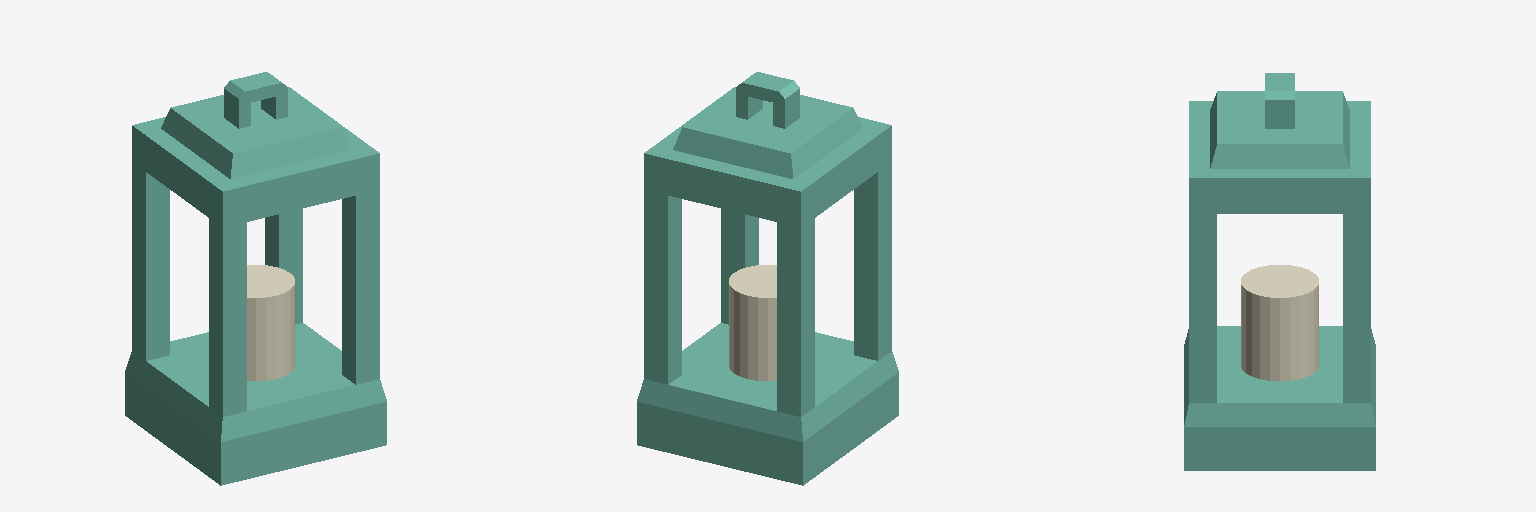
The model's file is lanternCandle.obj.
The picture shows the model from 3 angles: view 1: azimuth 30°, elevation 25°; view 2: azimuth 150°, elevation 25°; view 3: azimuth 270°, elevation 25°; orthographic projection.
Parts seen in each view (by area): view 1: lanternCandle; view 2: lanternCandle; view 3: lanternCandle.
Boxes of the visible parts, x1,y1,x2,y2 form: lanternCandle: [125, 72, 386, 485]; lanternCandle: [637, 72, 898, 485]; lanternCandle: [1184, 73, 1375, 470].
Size of the model in its own units: 1.46 by 2.92 by 1.46.